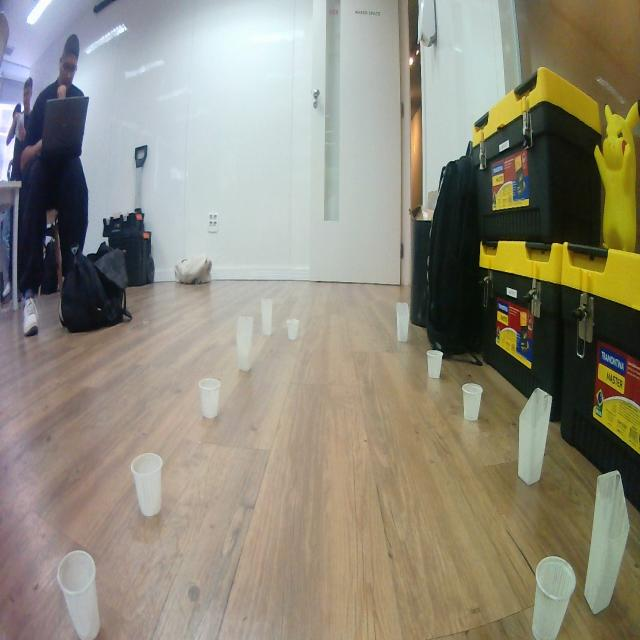erva_daninha: (584, 469, 630, 615), (517, 387, 553, 486), (236, 315, 254, 372), (395, 302, 410, 343), (260, 298, 273, 337)
planta: (56, 550, 100, 640), (532, 556, 576, 640), (130, 452, 163, 517), (198, 377, 221, 419), (462, 382, 484, 422), (426, 348, 444, 379), (287, 319, 299, 341)
